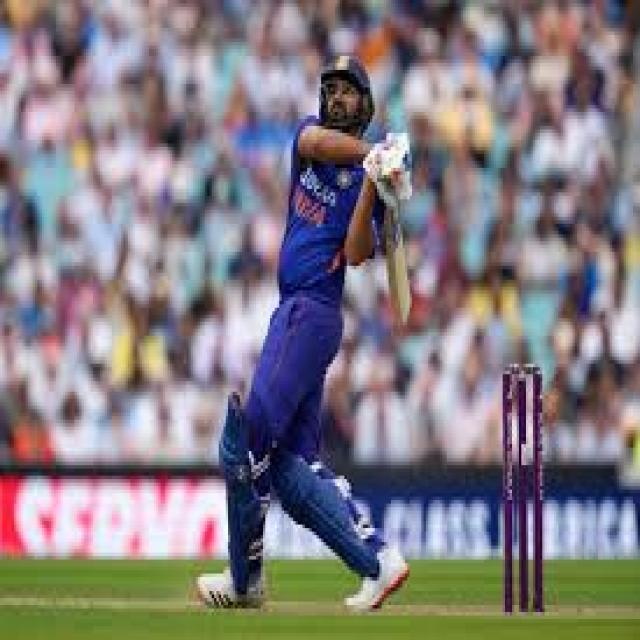toe: (388, 278, 418, 329)
